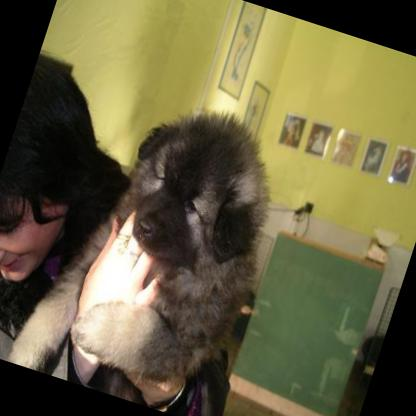keeshond: (7, 65, 303, 416)
